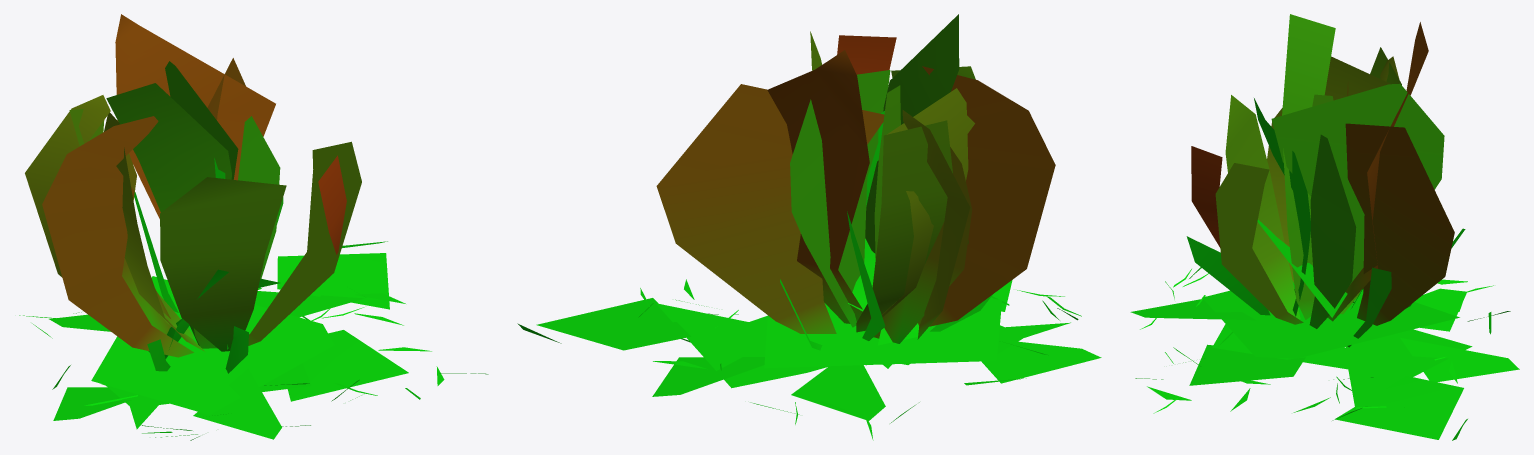
The model's file is Var4_LOD3.fbx.
3 views of the same model, side by side, from view 1: azimuth 30°, elevation 25°; view 2: azimuth 150°, elevation 25°; view 3: azimuth 270°, elevation 25° (orthographic). The views are drawn at different scales.
Visible parts, largest first — view 1: _5z95_Var4_LOD3; view 2: _5z95_Var4_LOD3; view 3: _5z95_Var4_LOD3.
Boxes of the visible parts, x1,y1,x2,y2 form: _5z95_Var4_LOD3: [19, 14, 488, 440]; _5z95_Var4_LOD3: [517, 14, 1101, 440]; _5z95_Var4_LOD3: [1130, 14, 1519, 440].
Bounding box in the file's own units: 73.58 × 52.57 × 60.66.
